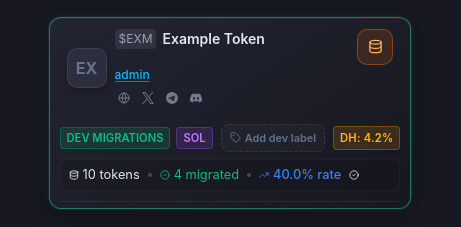
Test case: TokenCard › edits and immediately persists a developer label on the card
Click the button with aria-label "Add developer label" at (273, 138), box [221,124,325,152]
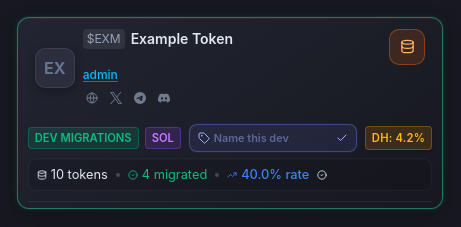
Type "Trusted dev" into the field named "Label for developer wallet dev-wallet" at (270, 138), box [214,126,326,150]
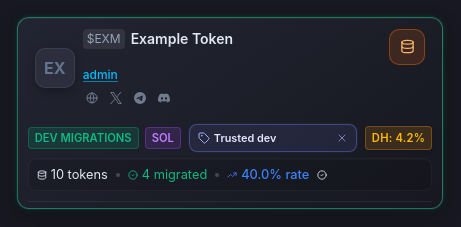
Press Enter in the field named "Label for developer wallet dev-wallet", box [214,126,326,150]
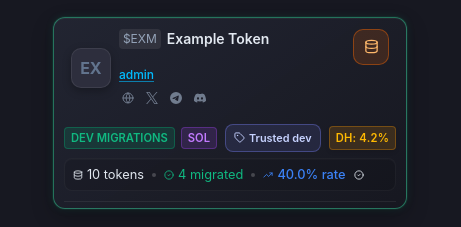
Check: the button with aria-label "Edit developer label Trusted dev" is shown, box [225,124,321,152]
